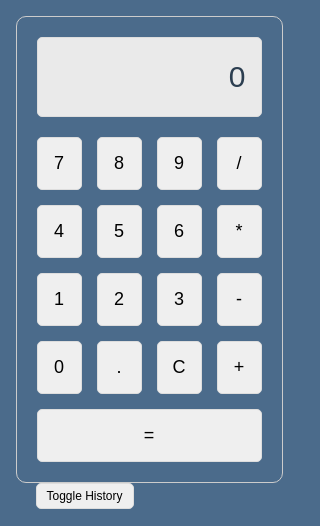
Test: Calculator.vue › updates display when buttons are clicked
The width and height of the screenshot is (320, 526).
Step 1. Click the button with test id "button-1" → (59, 299), box x1=36 y1=272 x2=82 y2=326
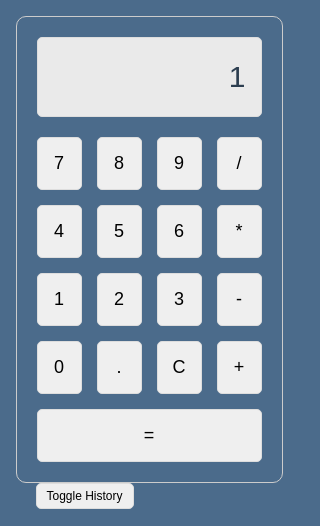
Step 2. Click the button with test id "button-+" → (239, 367), box x1=216 y1=340 x2=262 y2=394
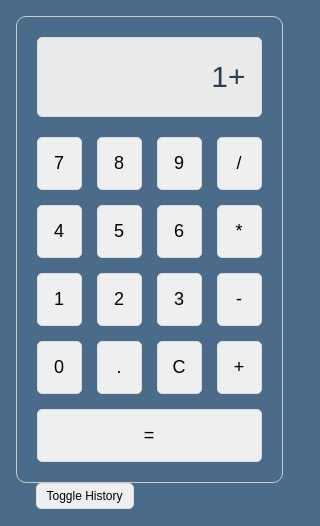
Step 3. Click the button with test id "button-2" → (119, 299), box x1=96 y1=272 x2=142 y2=326
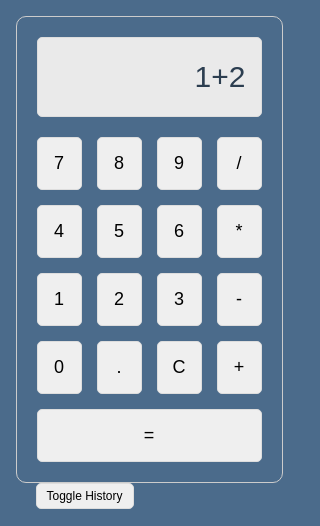
Result: the text with class "display" reads "1+2" at x1=195 y1=60 x2=246 y2=92
